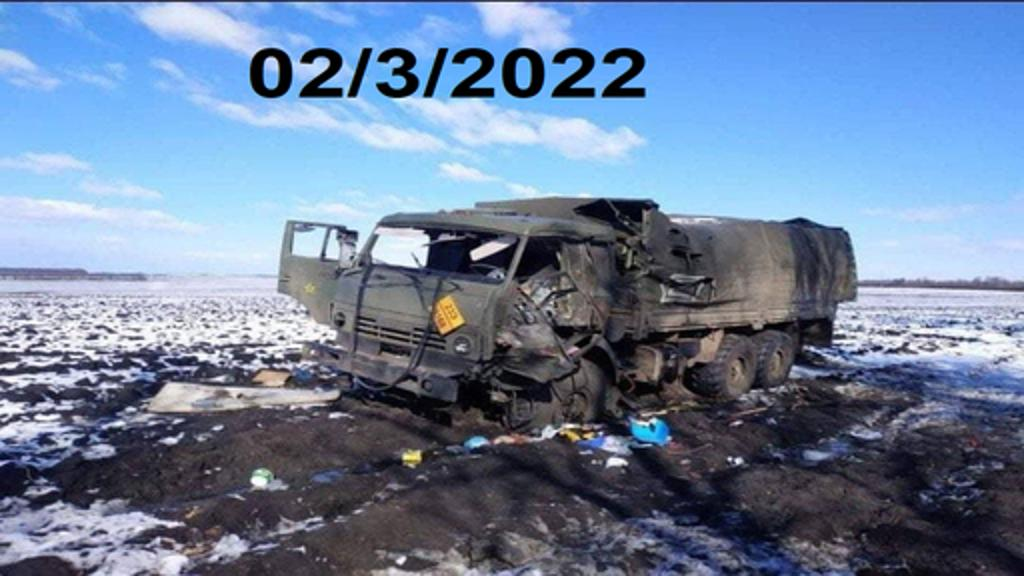TRUCK: (260, 190, 860, 424)
